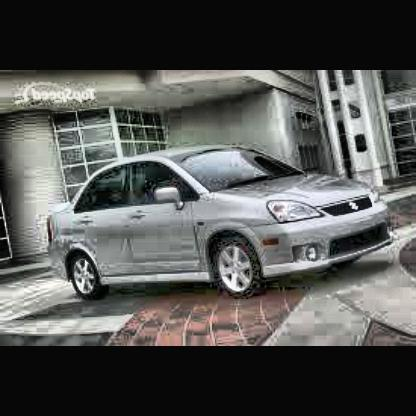Suzuki Aerio Sedan 2007: (49, 147, 393, 301)
